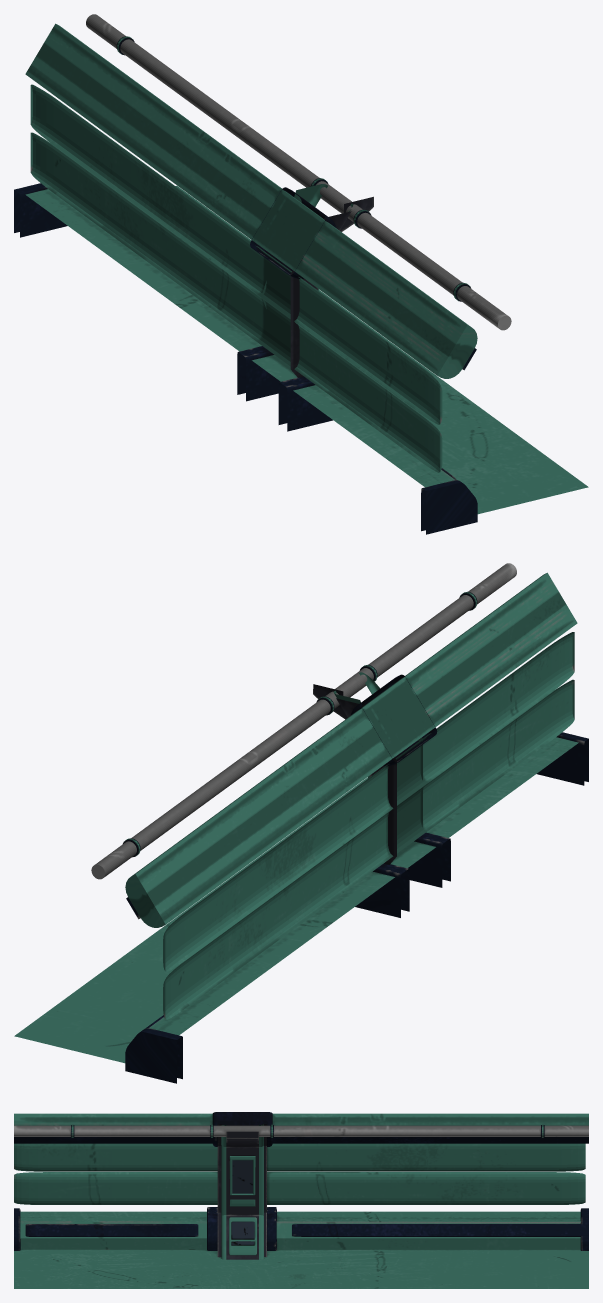
File: 5 yuka2.fbx
3 renders of one model, top to bottom at view 1: azimuth 30°, elevation 25°; view 2: azimuth 150°, elevation 25°; view 3: azimuth 270°, elevation 25°, orthographic. The views are drawn at different scales.
Parts seen in each view (by area): view 1: polySurface212, polySurface220.001, polySurface167, polySurface222, polySurface214, polySurface192; view 2: polySurface212, polySurface220.001, polySurface167, polySurface222, polySurface214, polySurface192; view 3: polySurface220.001, polySurface167, polySurface212, polySurface222, polySurface214, polySurface199, polySurface213, polySurface225, polySurface224.001, polySurface192.
Boxes of the visible parts, <box> form: polySurface212: <box>25,23,477,487</box>; polySurface220.001: <box>30,84,442,472</box>; polySurface167: <box>175,186,588,514</box>; polySurface222: <box>14,183,477,534</box>; polySurface214: <box>86,14,511,330</box>; polySurface192: <box>290,211,351,377</box>; polySurface212: <box>125,572,578,1035</box>; polySurface220.001: <box>163,632,574,1019</box>; polySurface167: <box>14,777,367,1063</box>; polySurface222: <box>125,674,588,1083</box>; polySurface214: <box>91,563,516,879</box>; polySurface192: <box>336,698,396,864</box>; polySurface220.001: <box>14,1143,585,1204</box>; polySurface167: <box>14,1249,588,1288</box>; polySurface212: <box>14,1113,588,1249</box>; polySurface222: <box>14,1112,588,1250</box>; polySurface214: <box>14,1125,588,1136</box>; polySurface199: <box>226,1131,258,1259</box>; polySurface213: <box>221,1124,263,1259</box>; polySurface225: <box>231,1160,254,1245</box>; polySurface224.001: <box>229,1156,256,1255</box>; polySurface192: <box>217,1124,266,1256</box>.
Bounding box in the file's own units: 15.38 × 18.26 × 67.18.
Materials: 1 (1 with a texture image).
